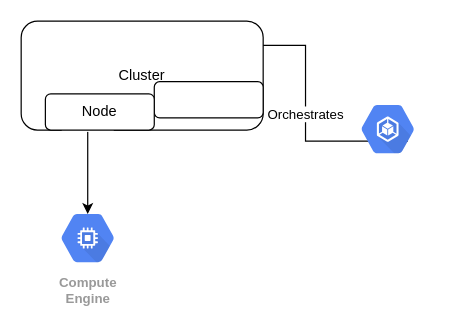
This 449x327 diagram has some shape labels left out. The box of each missing label's shape, as (x1, y1, x2, y2) in pixels:
Kubernetes Engine: (347, 93, 427, 164)
Pod: (153, 80, 263, 118)
